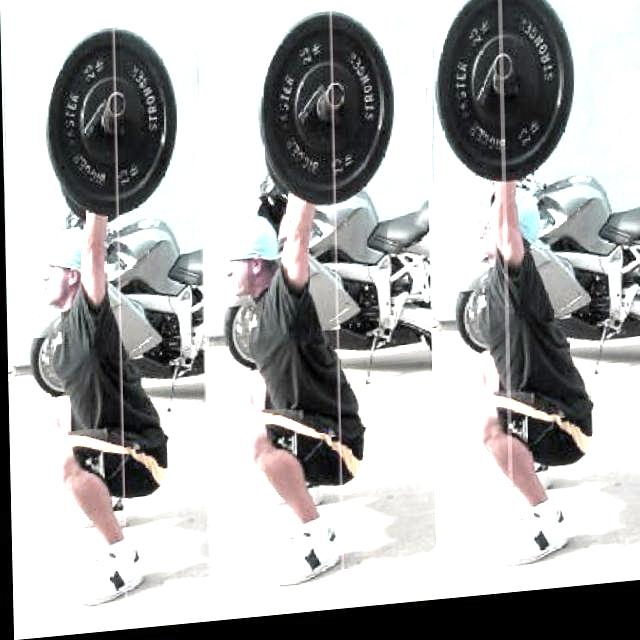barbell: (252, 8, 394, 221), (432, 1, 579, 203), (40, 22, 181, 227)
